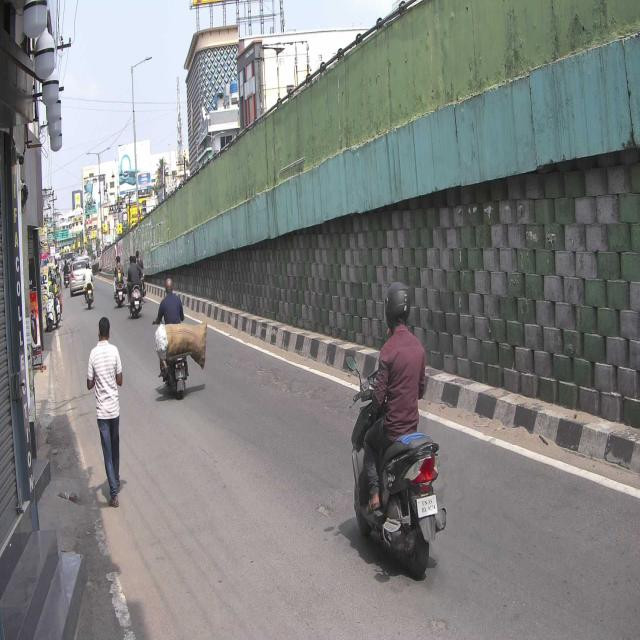single_rider: (344, 280, 448, 580)
